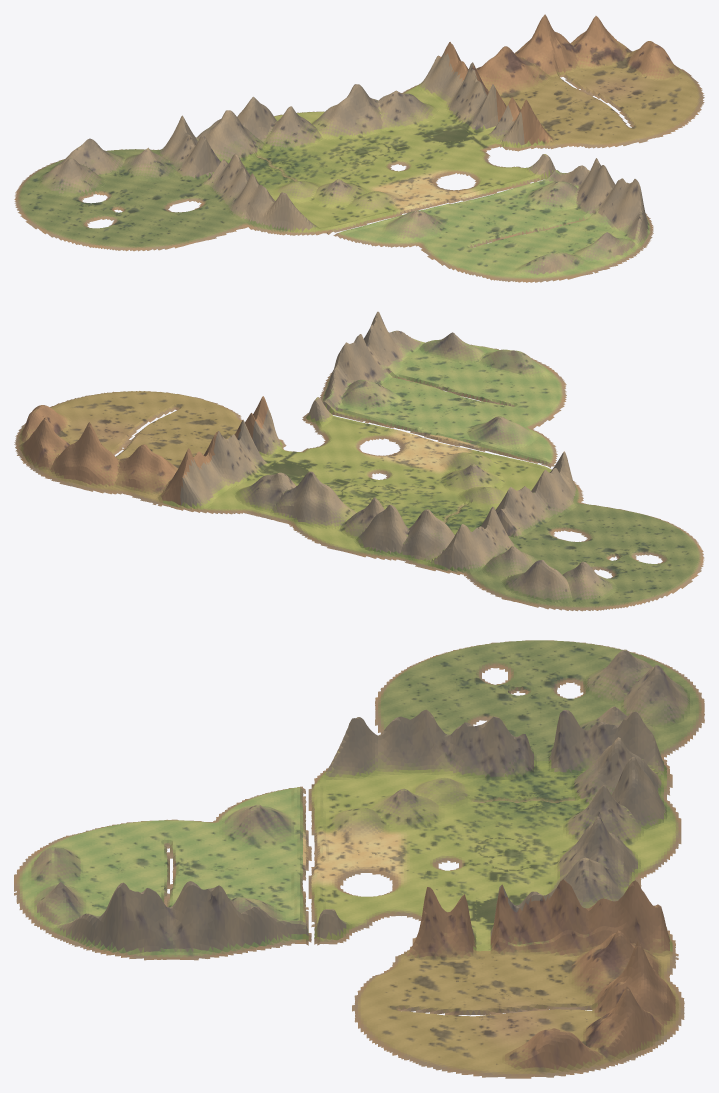
File: world_ground.glb
3 renders of one model, top to bottom at view 1: azimuth 30°, elevation 25°; view 2: azimuth 150°, elevation 25°; view 3: azimuth 270°, elevation 25°, orthographic. The views are drawn at different scales.
Visible parts, largest first — view 1: Durchgehende Küste · Erde und Wiesen · -2,1, Durchgehende Küste · Erde und Wiesen · 5,1, Durchgehende Küste · Erde und Wiesen · 6,1, Durchgehende Küste · Erde und Wiesen · 4,1, Durchgehende Küste · Erde und Wiesen · -3,1, Durchgehende Küste · Erde und Wiesen · -4,-3, Durchgehende Küste · Erde und Wiesen · 7,0, Durchgehende Küste · Erde und Wiesen · -7,1, Durchgehende Küste · Erde und Wiesen · 2,-6, Durchgehende Küste · Erde und Wiesen · 3,-2, Durchgehende Küste · Erde und Wiesen · 2,0, Durchgehende Küste · Erde und Wiesen · 2,-5 (+91 smaller); view 2: Durchgehende Küste · Erde und Wiesen · 5,2, Durchgehende Küste · Erde und Wiesen · -7,2, Durchgehende Küste · Erde und Wiesen · -3,2, Durchgehende Küste · Erde und Wiesen · 3,2, Durchgehende Küste · Erde und Wiesen · -4,2, Durchgehende Küste · Erde und Wiesen · -2,2, Durchgehende Küste · Erde und Wiesen · 4,2, Durchgehende Küste · Erde und Wiesen · 6,2, Durchgehende Küste · Erde und Wiesen · 0,1, Durchgehende Küste · Erde und Wiesen · 1,1, Durchgehende Küste · Erde und Wiesen · 2,-4, Durchgehende Küste · Erde und Wiesen · -2,-4 (+87 smaller); view 3: Durchgehende Küste · Erde und Wiesen · 3,0, Durchgehende Küste · Erde und Wiesen · 3,-6, Durchgehende Küste · Erde und Wiesen · -4,-2, Durchgehende Küste · Erde und Wiesen · 3,-5, Durchgehende Küste · Erde und Wiesen · -4,-1, Durchgehende Küste · Erde und Wiesen · 3,-7, Durchgehende Küste · Erde und Wiesen · 3,-1, Durchgehende Küste · Erde und Wiesen · 3,1, Durchgehende Küste · Erde und Wiesen · 7,1, Durchgehende Küste · Erde und Wiesen · -4,0, Durchgehende Küste · Erde und Wiesen · -6,2, Durchgehende Küste · Erde und Wiesen · -4,-3 (+88 smaller).
Part boxes in pixels (<box>): Durchgehende Küste · Erde und Wiesen · -2,1: <box>246,101,307,154</box>; Durchgehende Küste · Erde und Wiesen · 5,1: <box>519,31,577,88</box>; Durchgehende Küste · Erde und Wiesen · 6,1: <box>556,16,616,78</box>; Durchgehende Küste · Erde und Wiesen · 4,1: <box>480,46,538,97</box>; Durchgehende Küste · Erde und Wiesen · -3,1: <box>207,110,267,163</box>; Durchgehende Küste · Erde und Wiesen · -4,-3: <box>258,192,318,235</box>; Durchgehende Küste · Erde und Wiesen · 7,0: <box>617,41,678,85</box>; Durchgehende Küste · Erde und Wiesen · -7,1: <box>53,157,112,201</box>; Durchgehende Küste · Erde und Wiesen · 2,-6: <box>558,178,617,230</box>; Durchgehende Küste · Erde und Wiesen · 3,-2: <box>507,99,564,151</box>; Durchgehende Küste · Erde und Wiesen · 2,0: <box>424,85,483,133</box>; Durchgehende Küste · Erde und Wiesen · 2,-5: <box>536,176,595,214</box>; Durchgehende Küste · Erde und Wiesen · 5,2: <box>63,422,123,493</box>; Durchgehende Küste · Erde und Wiesen · -7,2: <box>538,565,598,611</box>; Durchgehende Küste · Erde und Wiesen · -3,2: <box>385,518,440,568</box>; Durchgehende Küste · Erde und Wiesen · 3,2: <box>146,448,202,510</box>; Durchgehende Küste · Erde und Wiesen · -4,2: <box>425,524,480,576</box>; Durchgehende Küste · Erde und Wiesen · -2,2: <box>342,504,400,559</box>; Durchgehende Küste · Erde und Wiesen · 4,2: <box>106,455,163,501</box>; Durchgehende Küste · Erde und Wiesen · 6,2: <box>32,420,78,484</box>; Durchgehende Küste · Erde und Wiesen · 0,1: <box>283,471,336,520</box>; Durchgehende Küste · Erde und Wiesen · 1,1: <box>242,472,296,512</box>; Durchgehende Küste · Erde und Wiesen · 2,-4: <box>323,383,379,421</box>; Durchgehende Küste · Erde und Wiesen · -2,-4: <box>479,417,538,459</box>; Durchgehende Küste · Erde und Wiesen · 3,0: <box>505,879,568,960</box>; Durchgehende Küste · Erde und Wiesen · 3,-6: <box>135,881,195,960</box>; Durchgehende Küste · Erde und Wiesen · -4,-2: <box>381,709,444,778</box>; Durchgehende Küste · Erde und Wiesen · 3,-5: <box>196,884,259,960</box>; Durchgehende Küste · Erde und Wiesen · -4,-1: <box>444,716,507,778</box>; Durchgehende Küste · Erde und Wiesen · 3,-7: <box>71,882,135,958</box>; Durchgehende Küste · Erde und Wiesen · 3,-1: <box>444,884,507,961</box>; Durchgehende Küste · Erde und Wiesen · 3,1: <box>568,884,629,960</box>; Durchgehende Küste · Erde und Wiesen · 7,1: <box>568,986,629,1068</box>; Durchgehende Küste · Erde und Wiesen · -4,0: <box>505,710,568,778</box>; Durchgehende Küste · Erde und Wiesen · -6,2: <box>629,665,692,725</box>; Durchgehende Küste · Erde und Wiesen · -4,-3: <box>320,717,383,778</box>.
Size of the model in its own units: 402 by 31.43 by 268.
